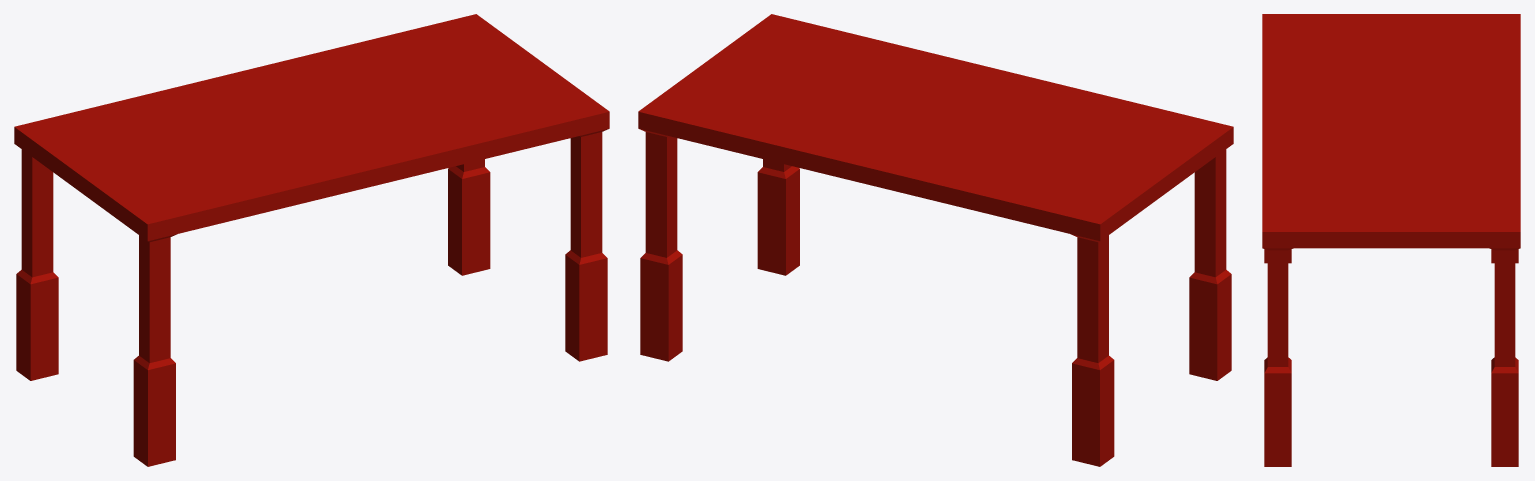
Rendered from Desk.FBX.
3 renders of one model, left to right at view 1: azimuth 30°, elevation 25°; view 2: azimuth 150°, elevation 25°; view 3: azimuth 270°, elevation 25°, orthographic. The views are drawn at different scales.
Parts seen in each view (by area): view 1: Desk; view 2: Desk; view 3: Desk.
Boxes of the visible parts, bbox=[...] form: Desk: bbox=[14, 14, 609, 466]; Desk: bbox=[638, 14, 1233, 466]; Desk: bbox=[1262, 14, 1520, 466].
Size of the model in its own units: 39.37 by 19.83 by 19.69.
